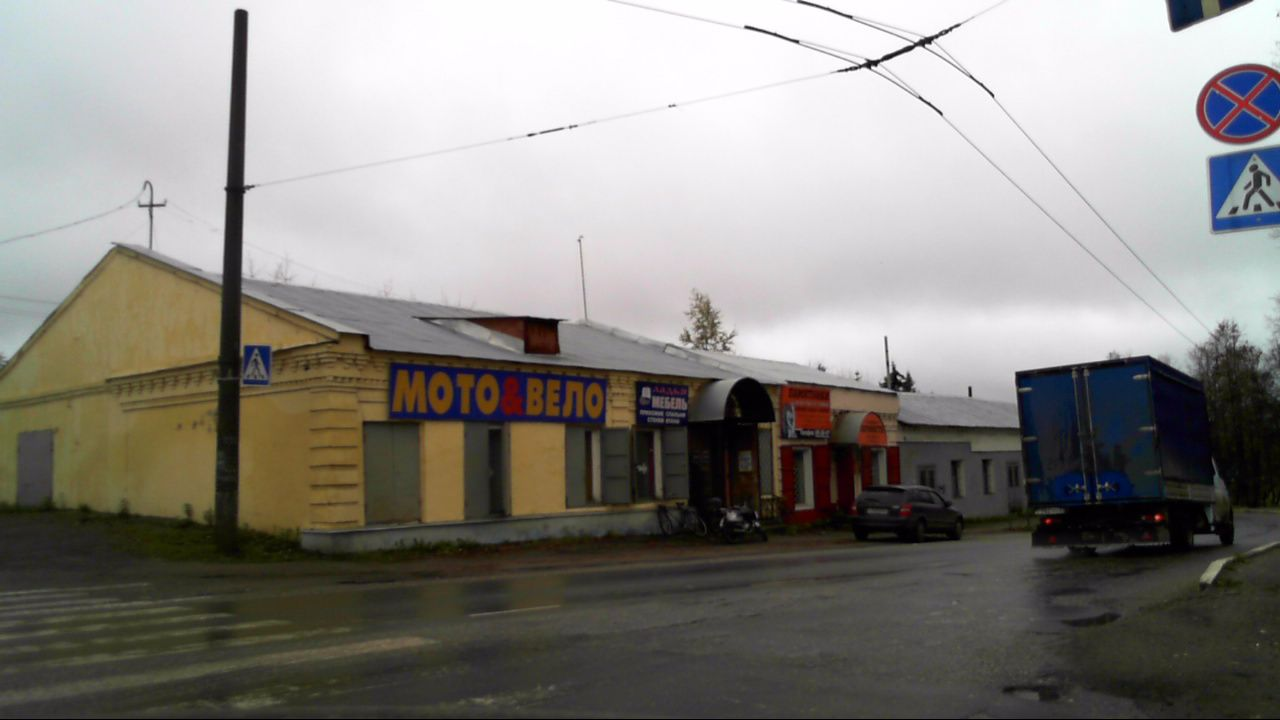No Parking: (1197, 61, 1279, 144)
